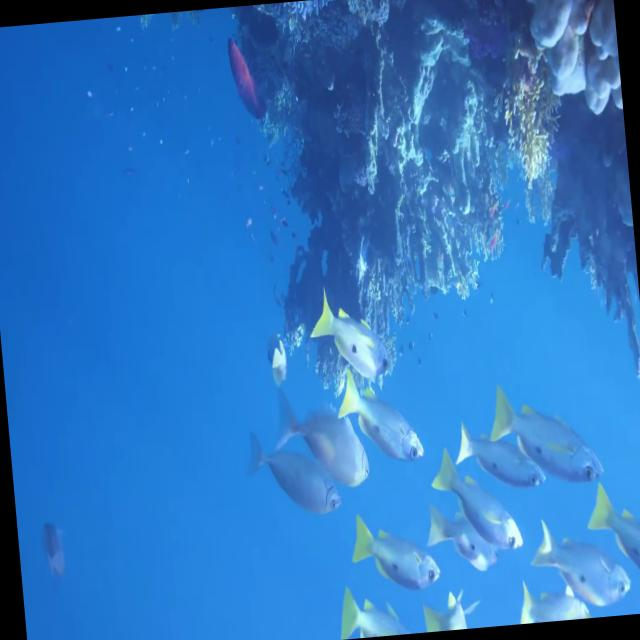fish: (491, 379, 609, 496), (276, 378, 372, 495), (430, 444, 524, 558), (244, 418, 340, 525), (533, 514, 635, 614), (337, 375, 424, 472), (308, 297, 390, 388), (456, 421, 550, 499), (352, 512, 438, 590), (429, 500, 500, 572)
